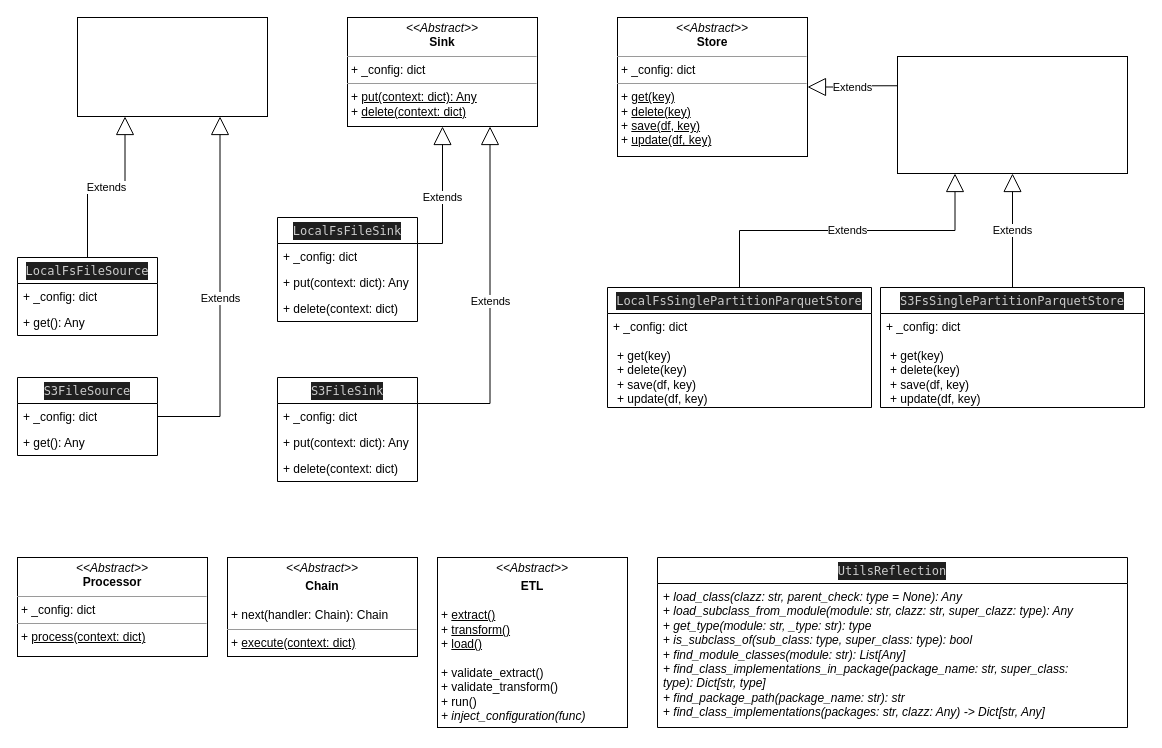
This 1162x748 diagram has some shape labels left out. The shapes that lost their labels are listed below. From the top down, each one's centre as x and y in pixels, then its label:
(172,66): <<Abstract>> Source + _config: dict + get (): Any
(1012,115): <<Abstract>> FsSinglePartitionParquetStore + fs () + _rmdir (key) + _exists(key)
